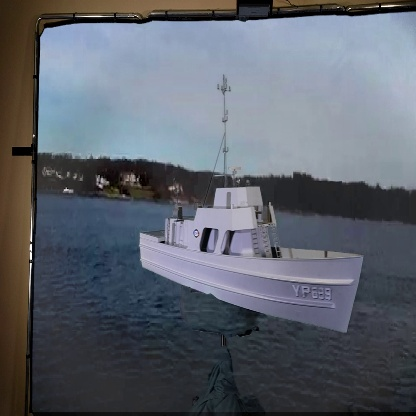YP689: (137, 71, 367, 333)
